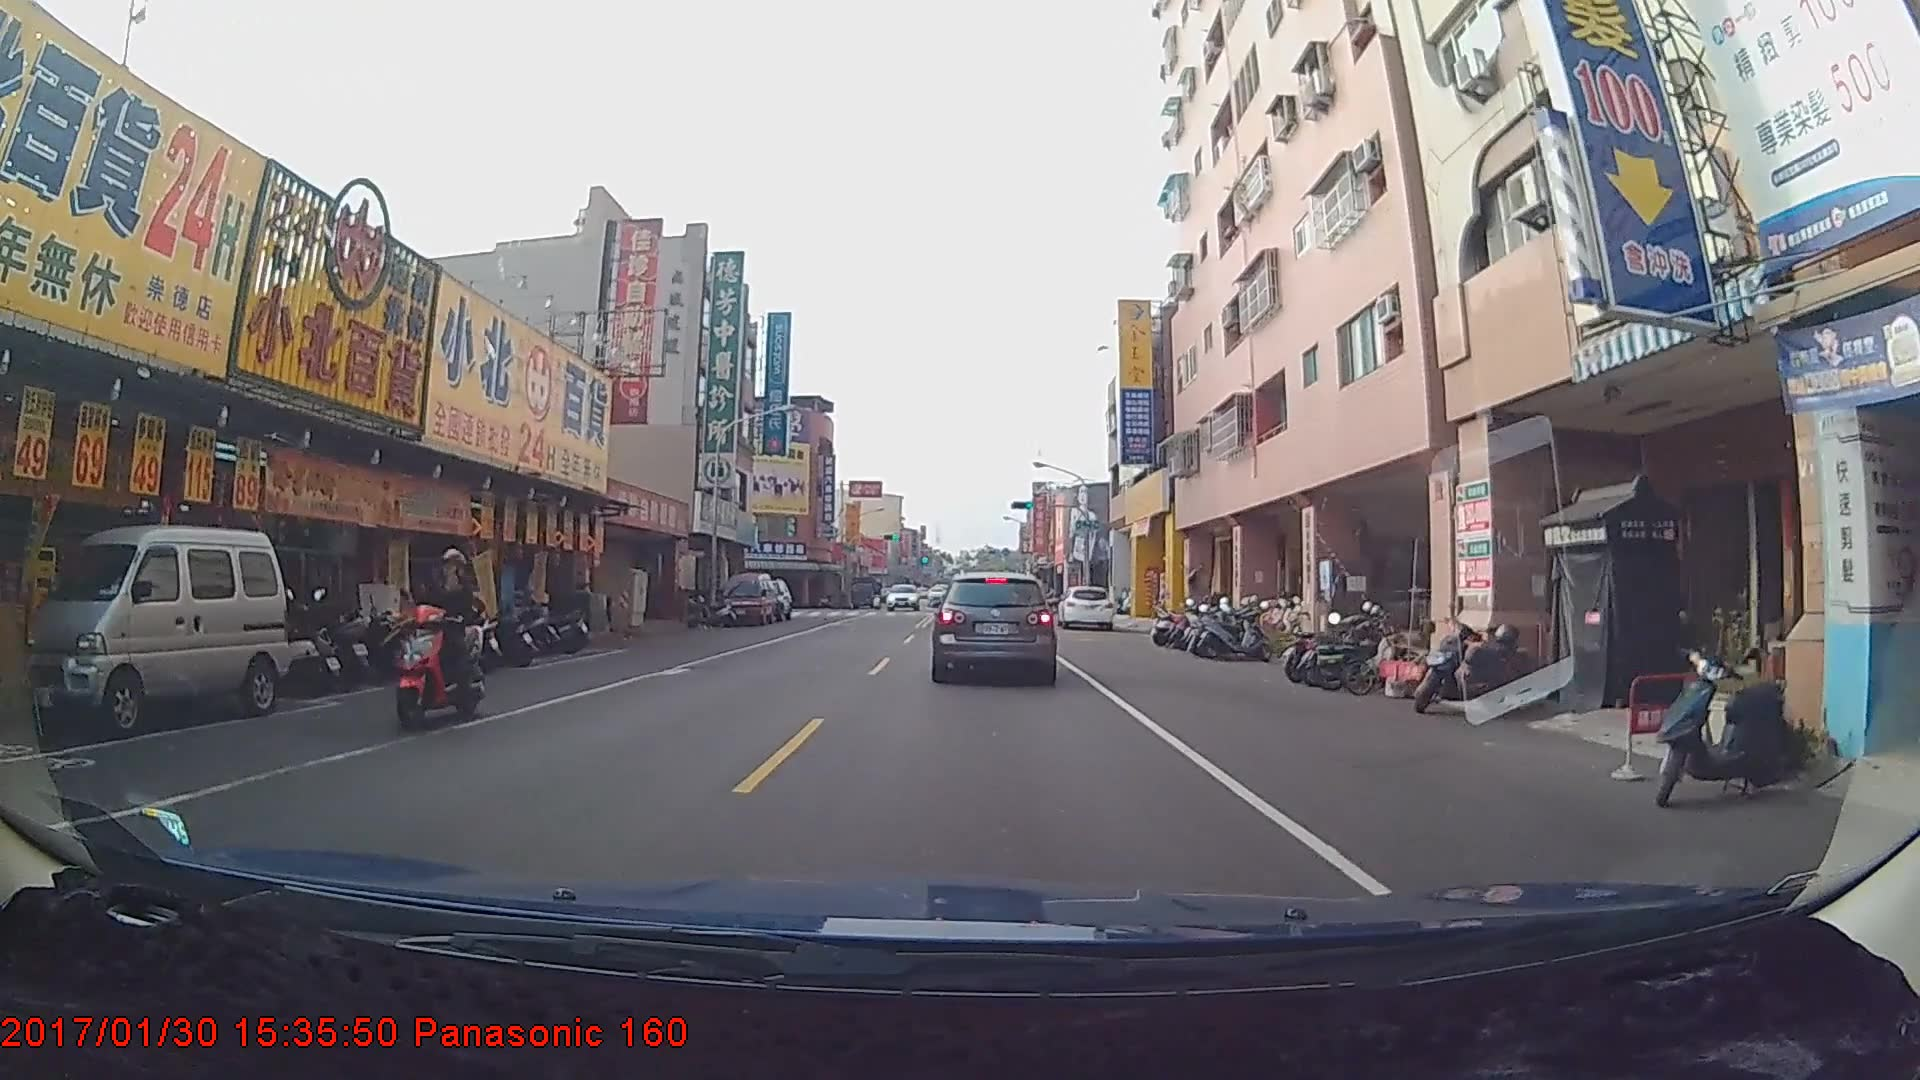rider: (400, 550, 494, 737)
vehicle: (22, 525, 288, 742), (934, 570, 1055, 682), (720, 569, 776, 624), (1058, 585, 1115, 631), (884, 582, 920, 611)
